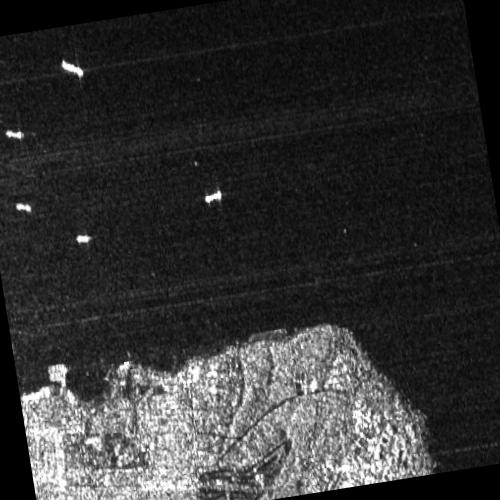ship: (61, 59, 85, 77), (204, 189, 223, 204), (5, 129, 25, 139), (16, 202, 33, 212), (75, 234, 91, 244)
